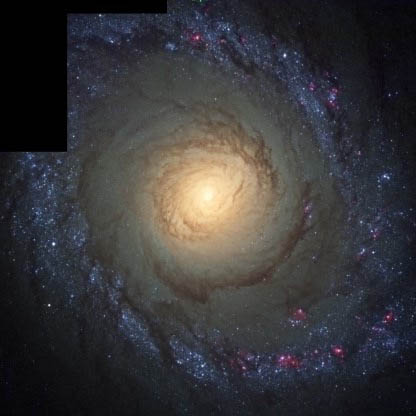Messier 94: (44, 32, 398, 390)
